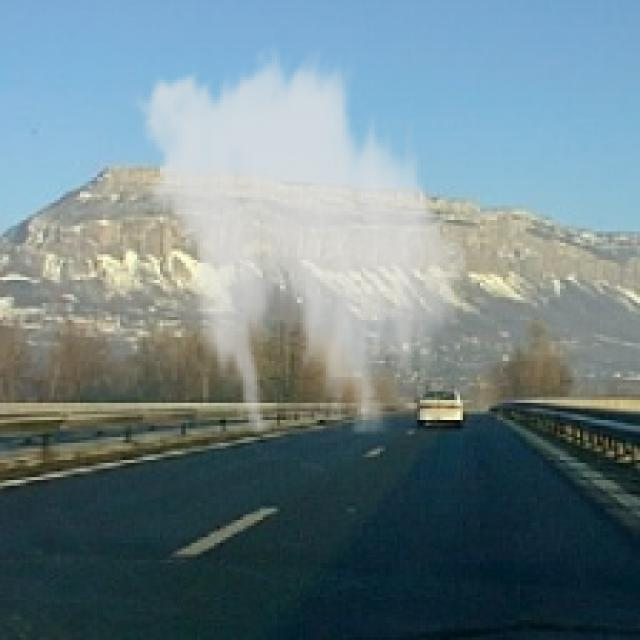smoke: (126, 43, 477, 434)
